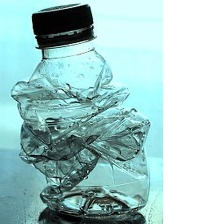bottle: (8, 2, 156, 219)
